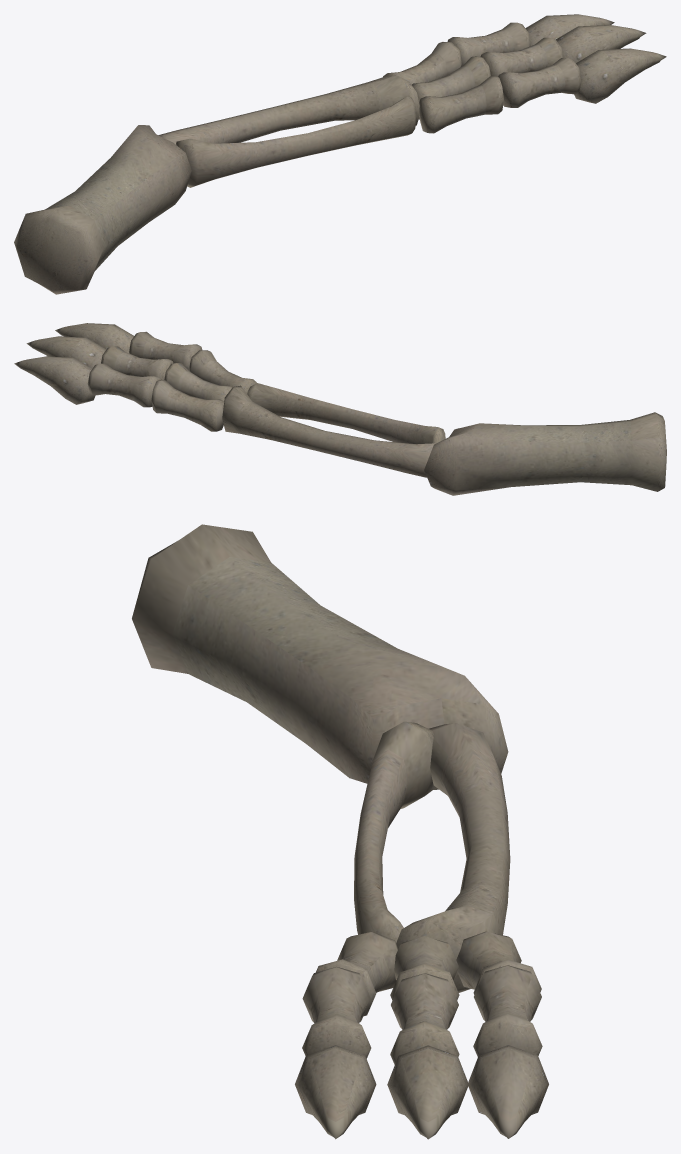
File: Dinosaur_arm.glb
3 views of the same model, one above another, from view 1: azimuth 30°, elevation 25°; view 2: azimuth 150°, elevation 25°; view 3: azimuth 270°, elevation 25° (orthographic). The views are drawn at different scales.
Parts seen in each view (by area): view 1: Ground010_1K_Color.jpg__; view 2: Ground010_1K_Color.jpg__; view 3: Ground010_1K_Color.jpg__.
Boxes of the visible parts, left/top/right/bottom form: Ground010_1K_Color.jpg__: left=14, top=14, right=666, bottom=294; Ground010_1K_Color.jpg__: left=14, top=323, right=666, bottom=495; Ground010_1K_Color.jpg__: left=132, top=524, right=548, bottom=1139.
Bounding box in the file's own units: 17.35 × 2.1 × 5.26.
Materials: 1 (1 with a texture image).
